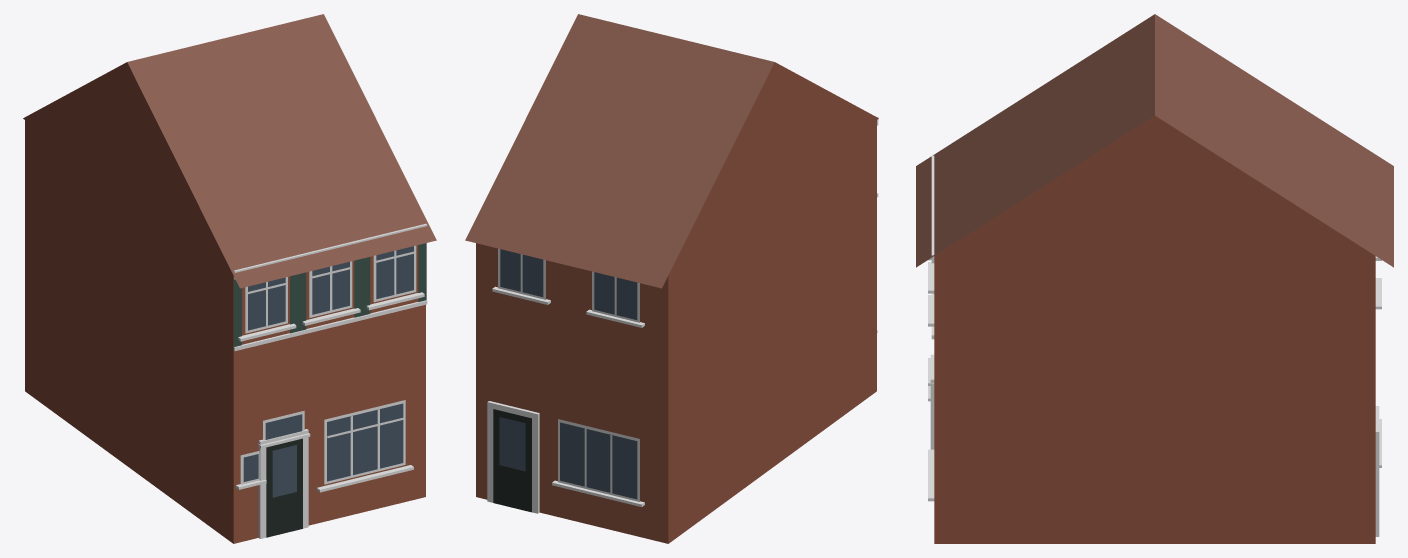
Rendered from nn-board__green-toilet__2__gable__long__solid.glb.
The picture shows the model from 3 angles, left to right: view 1: azimuth 30°, elevation 25°; view 2: azimuth 150°, elevation 25°; view 3: azimuth 270°, elevation 25°; orthographic projection. The views are drawn at different scales.
Visible parts, largest first — view 1: nn-board__green-toilet__2__gable__long__solid; view 2: nn-board__green-toilet__2__gable__long__solid; view 3: nn-board__green-toilet__2__gable__long__solid.
Part boxes in pixels (bbox=[...]): nn-board__green-toilet__2__gable__long__solid: bbox=[23, 14, 436, 543]; nn-board__green-toilet__2__gable__long__solid: bbox=[465, 14, 878, 543]; nn-board__green-toilet__2__gable__long__solid: bbox=[916, 14, 1393, 543].
Size of the model in its own units: 4.6 by 9.06 by 9.14.
